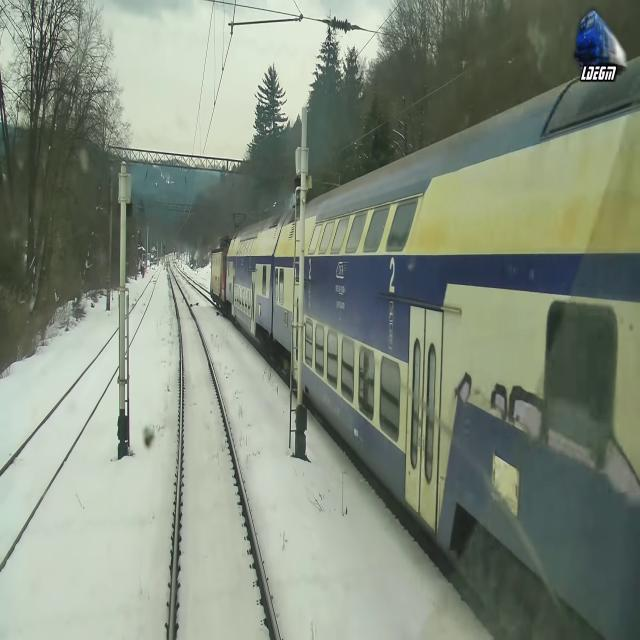rail-track: (167, 256, 275, 639), (0, 329, 119, 562), (130, 268, 160, 340), (186, 277, 211, 299)
